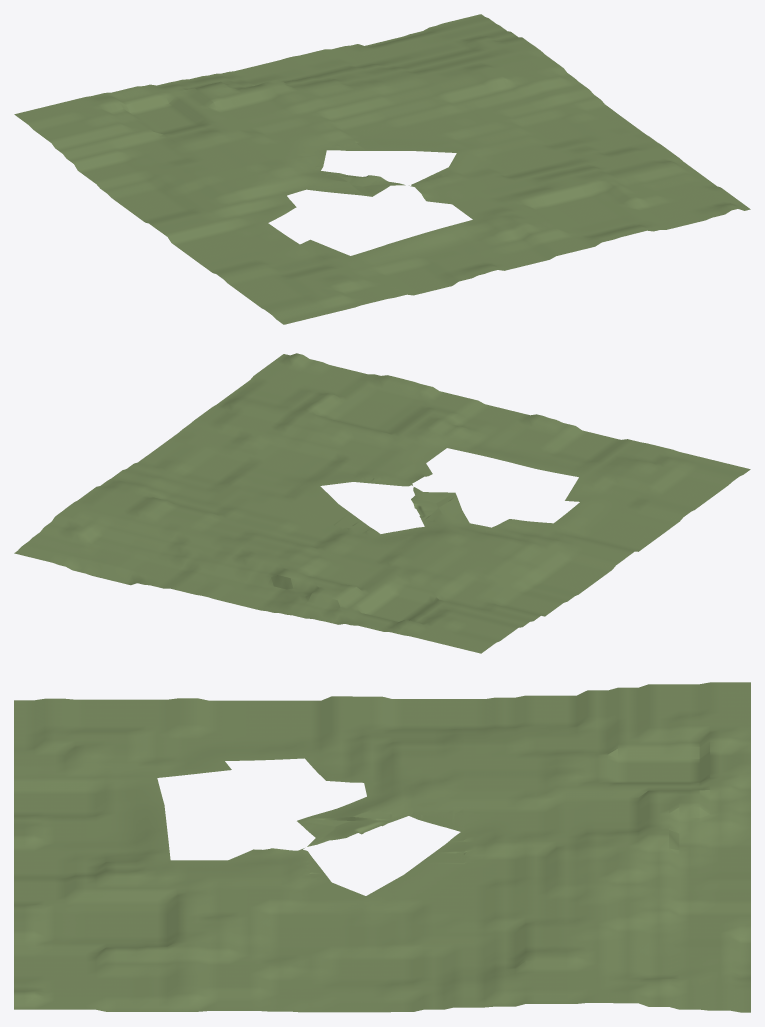
The picture shows the model from 3 angles, top to bottom: view 1: azimuth 30°, elevation 25°; view 2: azimuth 150°, elevation 25°; view 3: azimuth 270°, elevation 25°; orthographic projection. The views are drawn at different scales.
Parts seen in each view (by area): view 1: surface_context-terrain; view 2: surface_context-terrain; view 3: surface_context-terrain.
Part boxes in pixels (x1,y1,x2,y2): surface_context-terrain: (14, 14, 750, 324); surface_context-terrain: (14, 353, 750, 653); surface_context-terrain: (14, 682, 750, 1012).
Size of the model in its own units: 720 by 26.65 by 720.
Materials: 1 (1 with a texture image).
